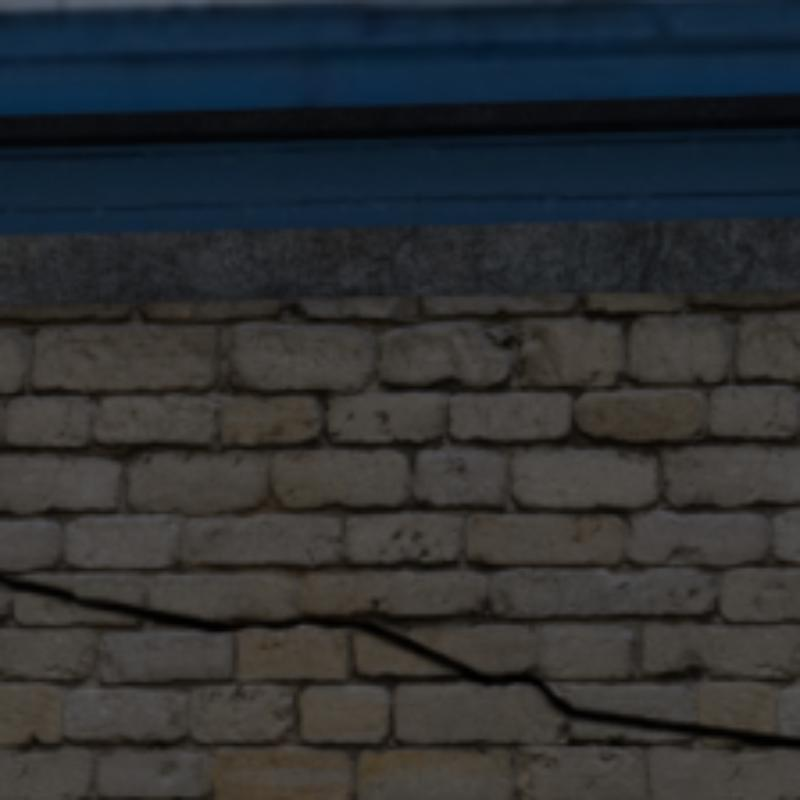pothole: (0, 571, 796, 746)
